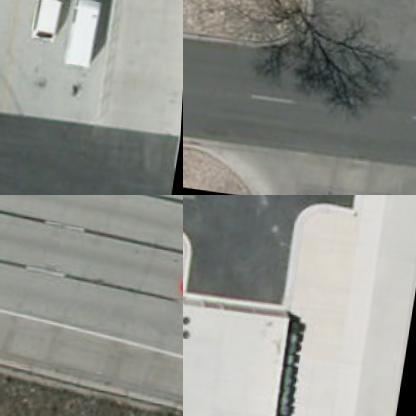car: (34, 0, 69, 41)
van: (66, 0, 106, 67)
